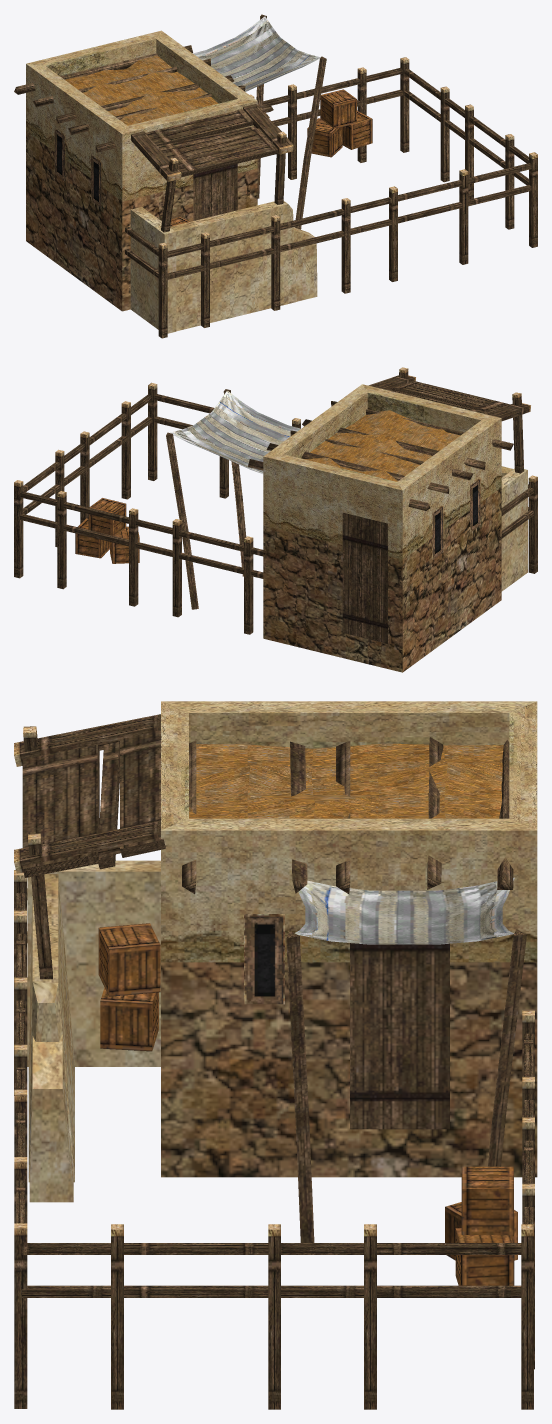
Rendered from pers_corral.glb.
The picture shows the model from 3 angles, top to bottom: view 1: azimuth 30°, elevation 25°; view 2: azimuth 150°, elevation 25°; view 3: azimuth 270°, elevation 25°; orthographic projection. The views are drawn at different scales.
Size of the model in its own units: 17.94 by 7.66 by 10.5.
1 material, 1 textured.
